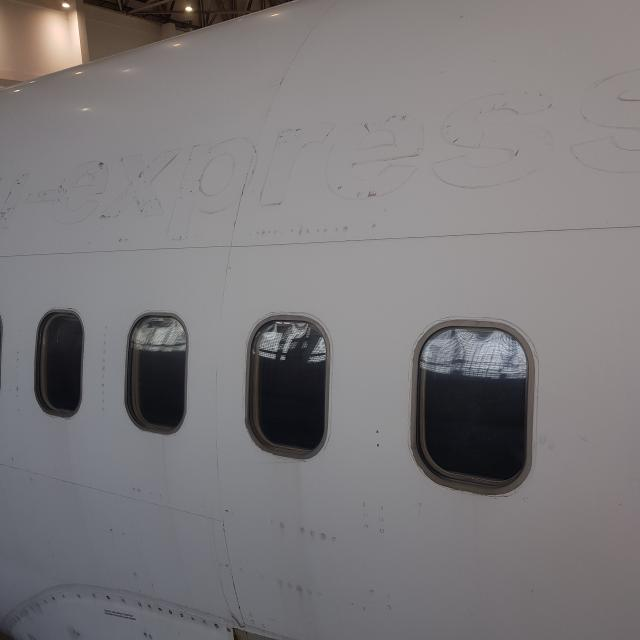Rupture: (224, 612, 258, 630)
